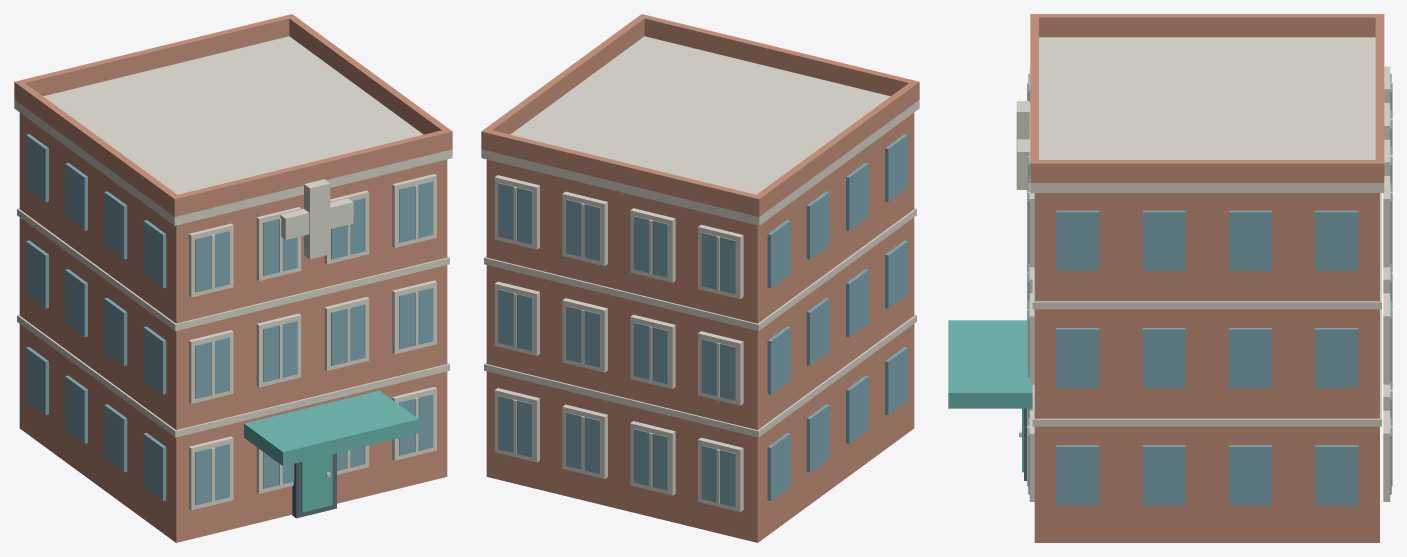
The model's file is vClub.glb.
The picture shows the model from 3 angles, left to right: view 1: azimuth 30°, elevation 25°; view 2: azimuth 150°, elevation 25°; view 3: azimuth 270°, elevation 25°; orthographic projection. The views are drawn at different scales.
Visible parts, largest first — view 1: clinic-cross-brick, clinic-cross-concrete, clinic-cross-glass, clinic-cross-accent, clinic-cross-dark; view 2: clinic-cross-brick, clinic-cross-concrete, clinic-cross-glass; view 3: clinic-cross-brick, clinic-cross-concrete, clinic-cross-glass, clinic-cross-accent.
Part boxes in pixels (box(x1,y1,x2,y2)): clinic-cross-brick: box(14, 14, 452, 542); clinic-cross-concrete: box(14, 36, 452, 510); clinic-cross-glass: box(26, 134, 433, 505); clinic-cross-accent: box(244, 390, 418, 512); clinic-cross-dark: box(292, 453, 336, 518); clinic-cross-brick: box(481, 14, 919, 542); clinic-cross-concrete: box(481, 36, 919, 512); clinic-cross-glass: box(498, 134, 907, 506); clinic-cross-brick: box(1030, 14, 1384, 542); clinic-cross-concrete: box(1016, 37, 1392, 501); clinic-cross-glass: box(1028, 73, 1391, 505); clinic-cross-accent: box(948, 320, 1032, 472).
Bounding box in the file's own units: 8.2 × 9.75 × 10.3.
